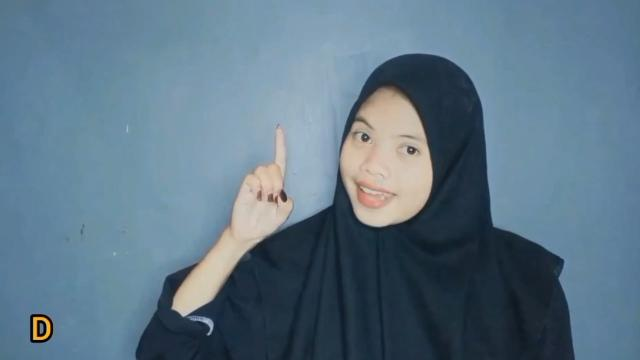D: (229, 124, 293, 236)
